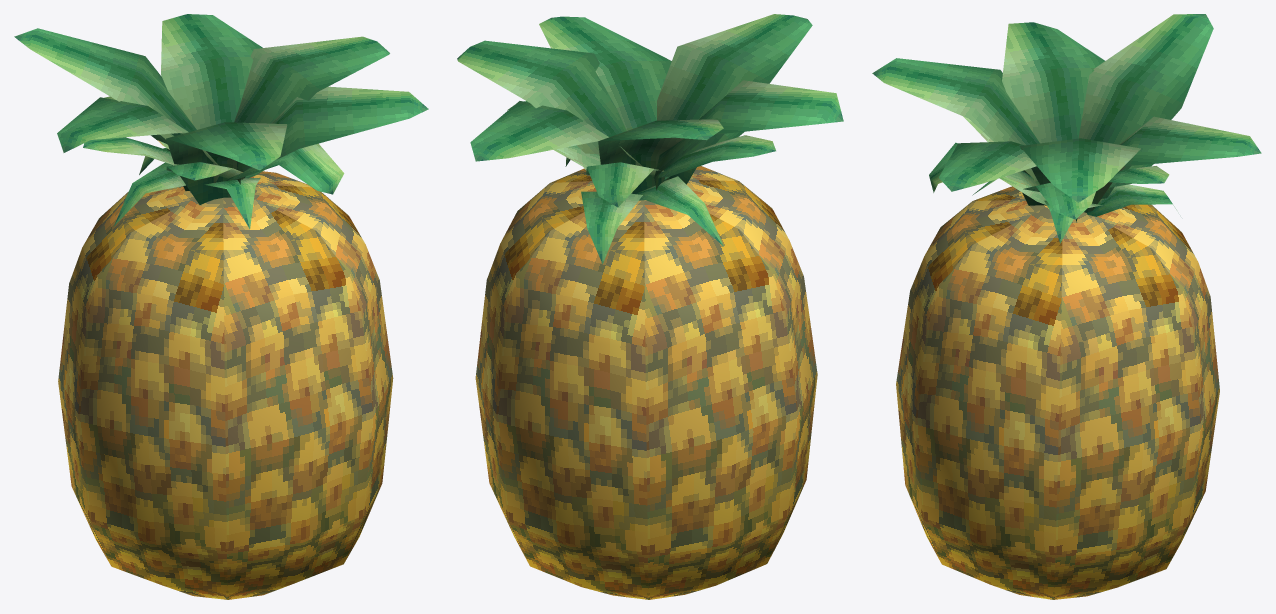
The model's file is pinaG.glb.
3 renders of one model, left to right at view 1: azimuth 30°, elevation 25°; view 2: azimuth 150°, elevation 25°; view 3: azimuth 270°, elevation 25°, orthographic. The views are drawn at different scales.
Parts seen in each view (by area): view 1: Inst3D22_RefRep.191; view 2: Inst3D22_RefRep.191; view 3: Inst3D22_RefRep.191.
Part boxes in pixels (bbox=[...]): Inst3D22_RefRep.191: bbox=[14, 14, 428, 599]; Inst3D22_RefRep.191: bbox=[457, 14, 843, 599]; Inst3D22_RefRep.191: bbox=[872, 14, 1261, 599].
Bounding box in the file's own units: 11.07 × 15.71 × 10.95.
Materials: 1 (1 with a texture image).
